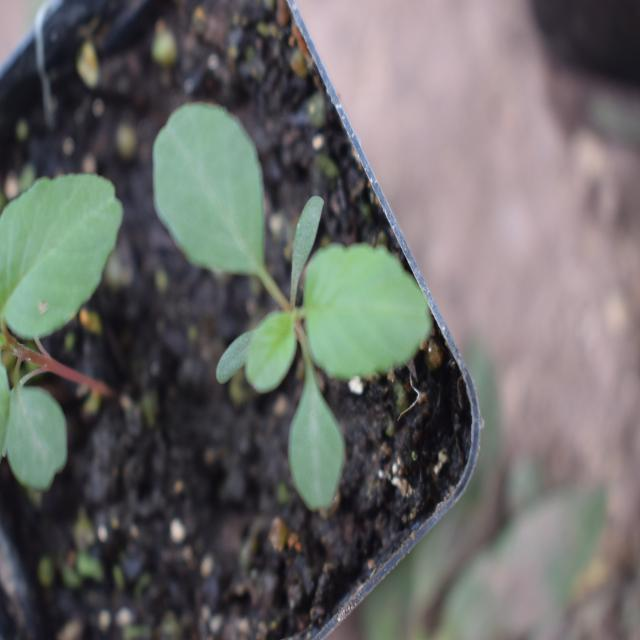pigweed: (143, 104, 418, 459)
